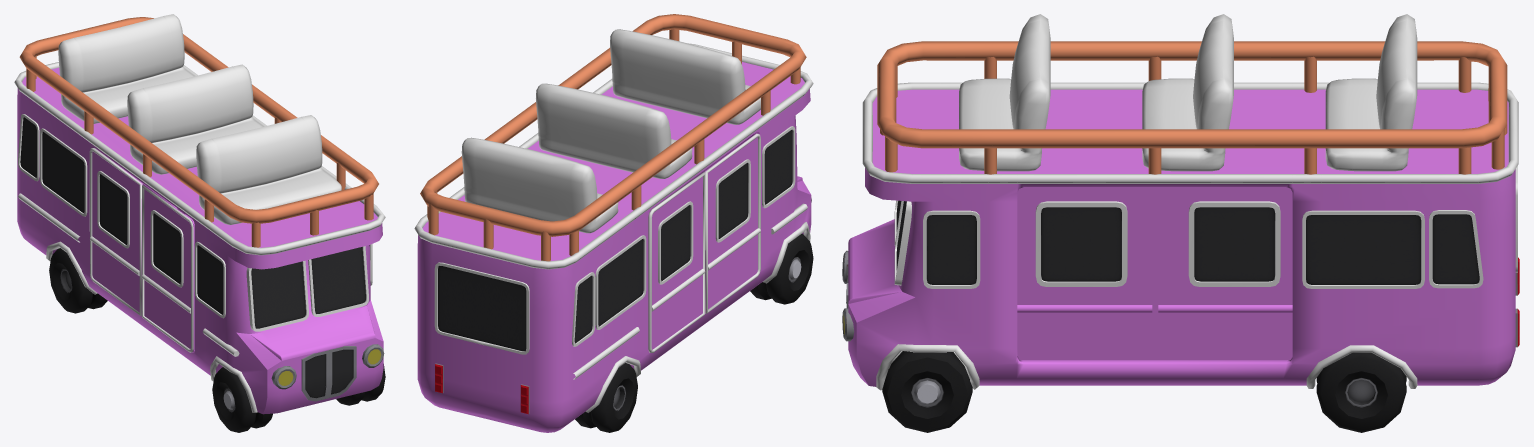
File: Bus.fbx
The picture shows the model from 3 angles, left to right: view 1: azimuth 30°, elevation 25°; view 2: azimuth 150°, elevation 25°; view 3: azimuth 270°, elevation 25°; orthographic projection. The views are drawn at different scales.
Visible parts, largest first — view 1: Bus, Door right, Door Left, Wheels 1, Wheels 2, Wheels 4; view 2: Bus, Door Left, Door right, Wheels 1, Wheels 2; view 3: Bus, Wheels 4, Wheels 3.
Part boxes in pixels (left/top/right/bottom): Bus: left=14, top=14, right=385, bottom=414; Door right: left=141, top=184, right=194, bottom=352; Door Left: left=89, top=148, right=142, bottom=316; Wheels 1: left=212, top=367, right=272, bottom=432; Wheels 2: left=49, top=248, right=107, bottom=313; Wheels 4: left=336, top=364, right=385, bottom=405; Bus: left=414, top=14, right=813, bottom=432; Door Left: left=648, top=172, right=705, bottom=352; Door right: left=704, top=133, right=760, bottom=313; Wheels 1: left=750, top=234, right=813, bottom=304; Wheels 2: left=575, top=363, right=637, bottom=432; Bus: left=842, top=14, right=1519, bottom=390; Wheels 4: left=882, top=351, right=972, bottom=432; Wheels 3: left=1316, top=352, right=1406, bottom=432.
Size of the model in its own units: 2.51 by 4.16 by 7.51.
